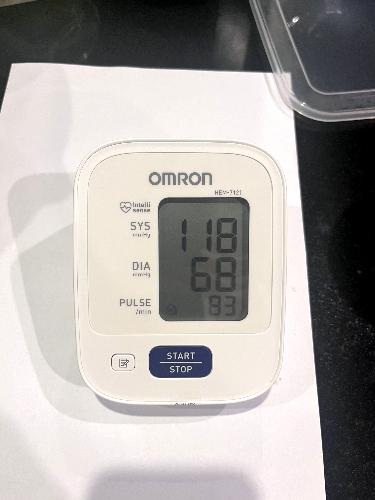bpm: (153, 192, 251, 324)
